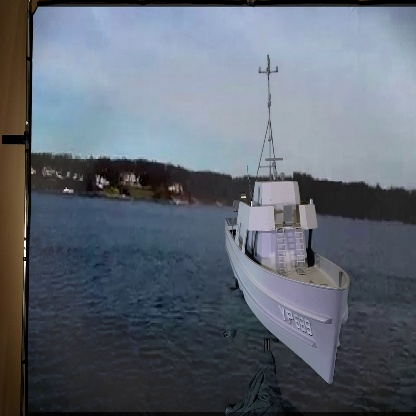YP689: (225, 53, 350, 384)
